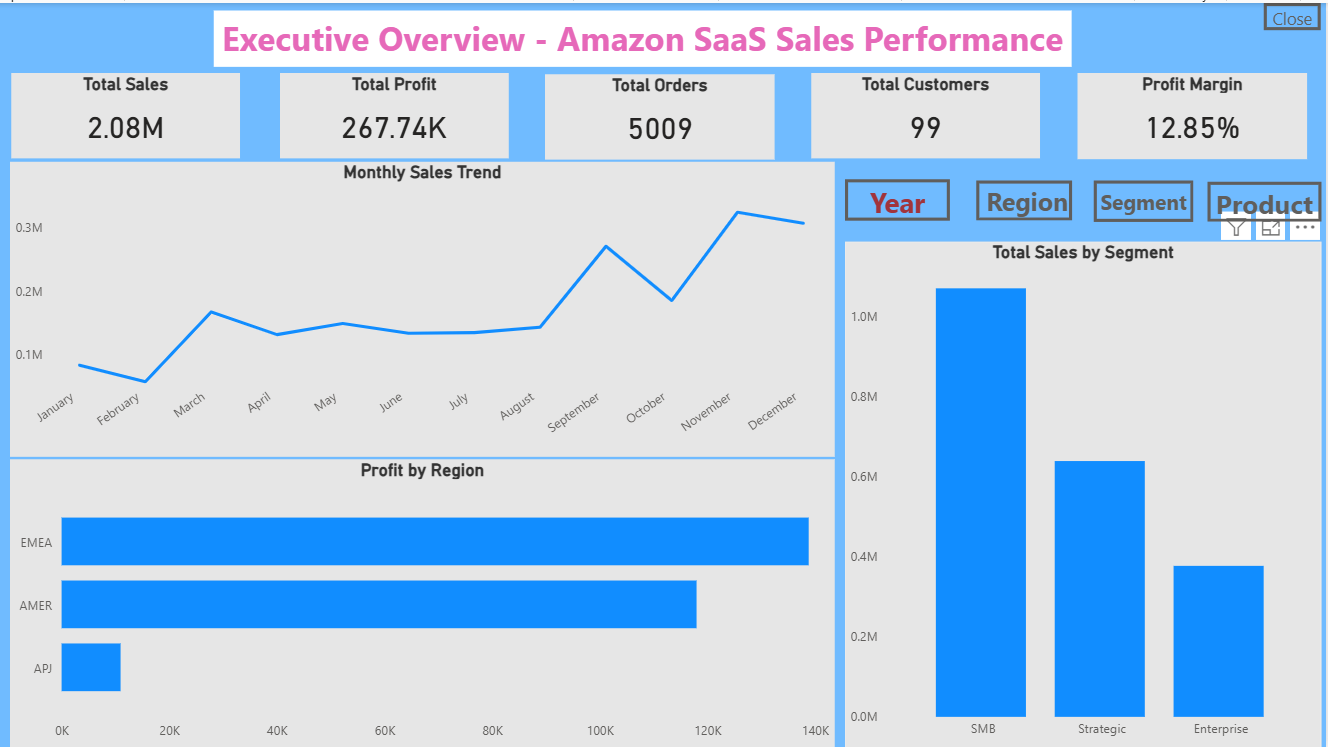

This screenshot's page, from the dashboard's own definition file:
{"tool":"powerbi","page":{"name":"SaaS Business Performance Overview","canvas":[1280,720],"ordinal":0},"visuals":[{"type":"card","title":"Total Sales","fields":{"Values":["SaaS-Sales.Total Sales"]},"box":[10.9,67.9,221,82.3],"z":0,"group":"g2"},{"type":"lineChart","title":"Monthly Sales Trend","fields":{"Category":["SaaS-Sales.Order Date.Variation.Date Hierarchy.Month"],"Y":["SaaS-Sales.Total Sales"]},"box":[9.7,153.2,796.3,284.7],"z":0},{"type":"card","title":"Total Profit","fields":{"Values":["Sum(SaaS-Sales.Profit)"]},"box":[270,67.6,220.7,82],"z":1000,"group":"g2"},{"type":"barChart","title":"Profit by Region","fields":{"Category":["SaaS-Sales.Region"],"Y":["SaaS-Sales.Total Profit"]},"box":[9.7,440.4,796.3,279.9],"z":1000},{"type":"card","title":"Total Orders","fields":{"Values":["Count(SaaS-Sales.Order ID)"]},"box":[525.5,68.8,221.9,82],"z":2000,"group":"g2"},{"type":"columnChart","fields":{"Category":["SaaS-Sales.Segment"],"Y":["SaaS-Sales.Total Sales"]},"box":[815,230,460,488.8],"z":2000},{"type":"card","title":"Total Customers","fields":{"Values":["Count(SaaS-Sales.Customer ID)"]},"box":[783.4,67.6,220.7,82],"z":3000,"group":"g2"},{"type":"card","title":"Profit Margin ","fields":{"Values":["SaaS-Sales.Profit Margin %"]},"box":[1040.1,67.6,221.9,83.2],"z":4000,"group":"g2"},{"type":"actionButton","box":[1220,0,55,26.2],"z":7000},{"type":"actionButton","box":[815,170,101.2,40],"z":7000,"group":"g1"},{"type":"textbox","box":[206.3,7.2,827.6,54.3],"z":8000},{"type":"actionButton","box":[941.2,171.2,92.5,38.8],"z":8000,"group":"g1"},{"type":"group","id":"g1","title":"Group 2","box":[815,170,460,41.2],"z":9000},{"type":"actionButton","box":[1055,171.2,96.2,40],"z":9000,"group":"g1"},{"type":"group","id":"g2","title":"Group 1","box":[10.9,67.6,1251.1,83.2],"z":10000},{"type":"actionButton","box":[1165,172.5,110,38.8],"z":10000,"group":"g1"}]}

Visuals, with their boxes in screenshot pixels (x1, y1, x2, y2), scaled from the page's 1280x720 canvas onto the 1328x747 screenshot:
"Total Sales" card: [11,70,241,156]
"Monthly Sales Trend" lineChart: [10,159,836,454]
"Total Profit" card: [280,70,509,155]
"Profit by Region" barChart: [10,457,836,746]
"Total Orders" card: [545,71,775,156]
columnChart - SaaS-Sales.Segment x SaaS-Sales.Total Sales: [846,239,1323,746]
"Total Customers" card: [813,70,1042,155]
"Profit Margin " card: [1079,70,1309,156]
actionButton: [1266,0,1323,27]
actionButton: [846,176,951,218]
textbox: [214,7,1073,64]
actionButton: [976,178,1072,218]
"Group 2" group: [846,176,1323,219]
actionButton: [1095,178,1194,219]
"Group 1" group: [11,70,1309,156]
actionButton: [1209,179,1323,219]
